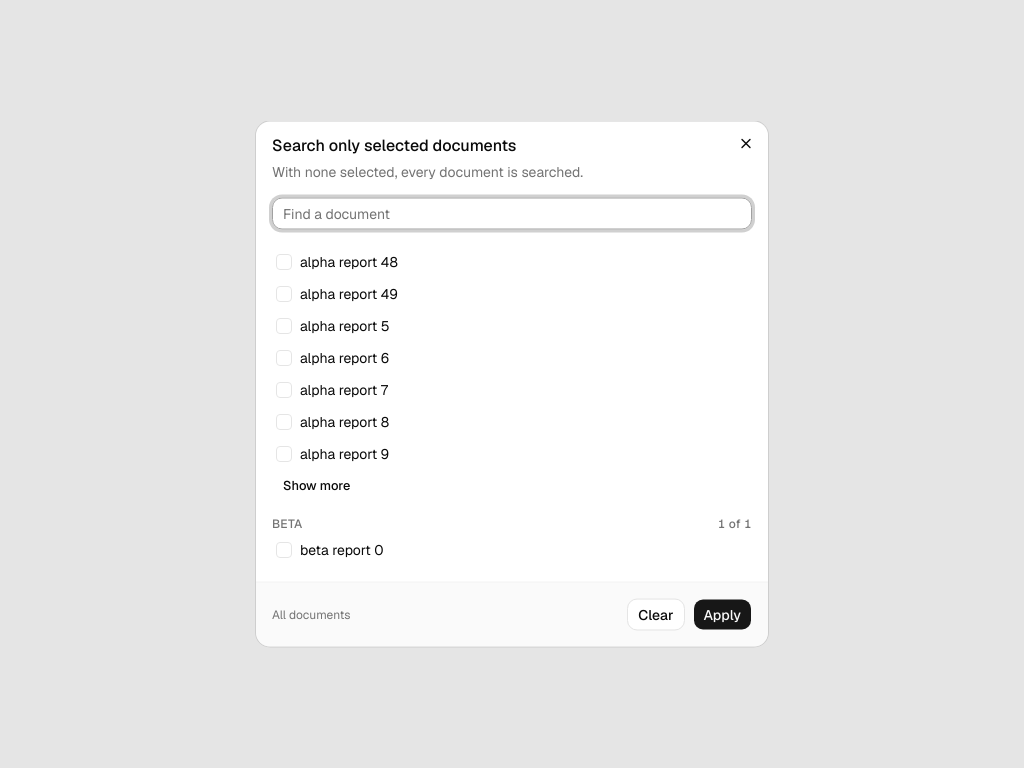
Scenario: FilterDialog › lists a page per database, says how many there are, and shows more
The image size is (1024, 768).
(page scrolled)
expect the text "1 of 1" is shown: met, box [718, 516, 752, 532]
Click the button "Show more". click: (317,486)
box: [272, 472, 361, 500]
(page scrolled)
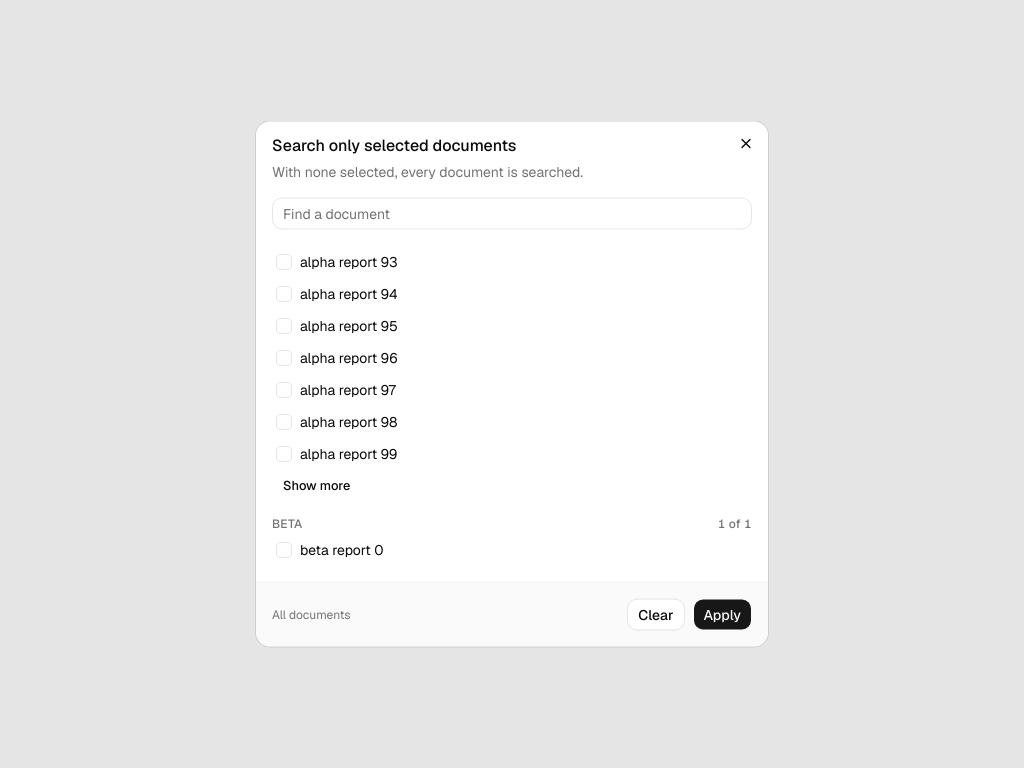
expect the text "1 of 1" is shown: met, box [718, 516, 752, 532]
expect the text "alpha report 99" is shown: met, box [300, 444, 397, 464]
